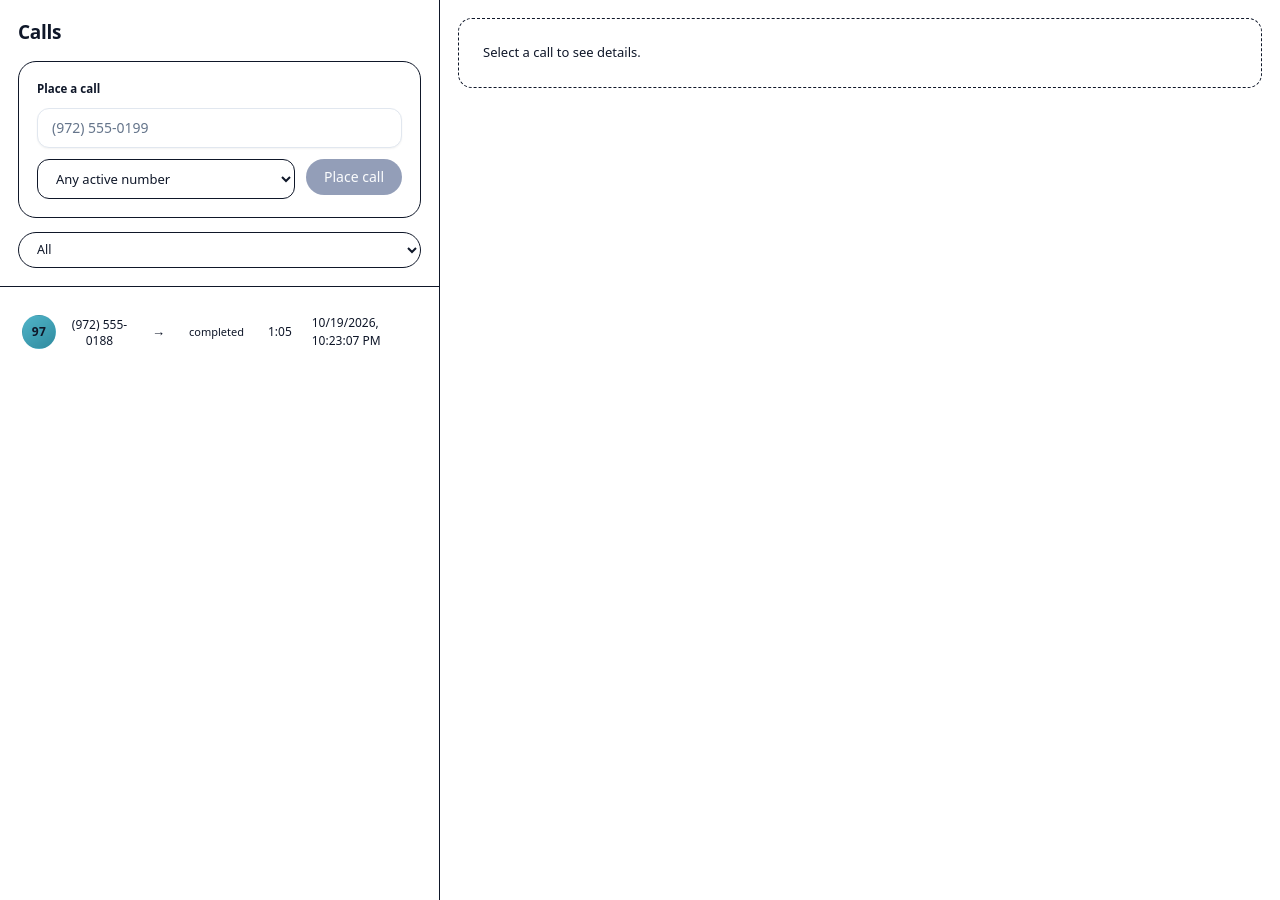
Test: CallsPage › renders the transcript panel with ordered chat bubbles
The width and height of the screenshot is (1280, 900).
Click the cell "→": (158, 332) [144,303,173,361]
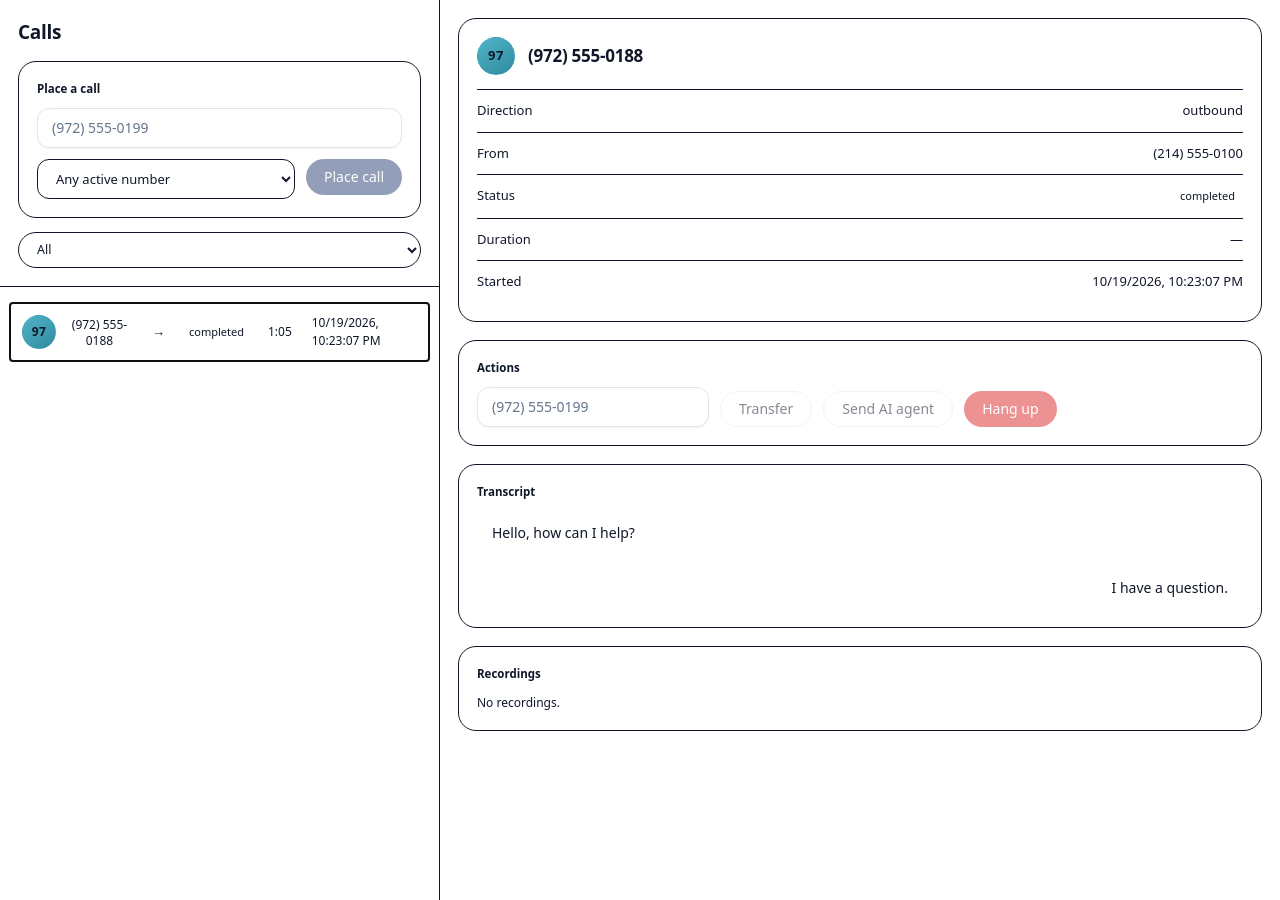
Now the list items read "Hello, how can I help?", "I have a question.", in this order, box [492,523,635,542]; [1112,578,1228,597]
